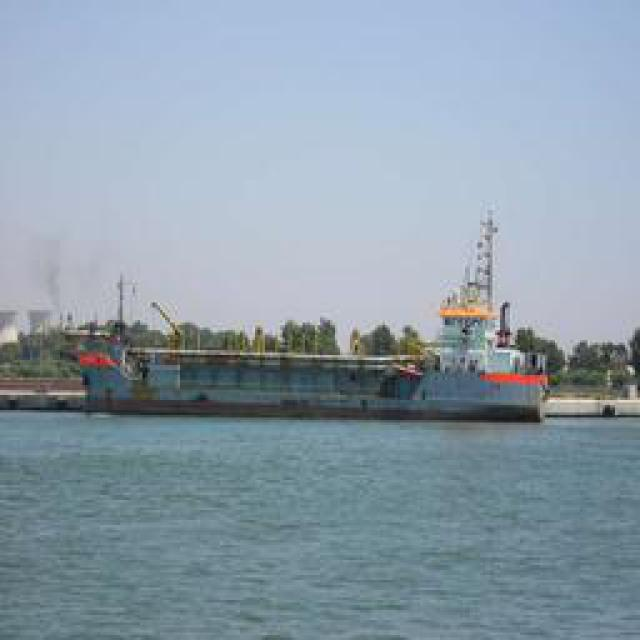Ship: (56, 255, 551, 425)
